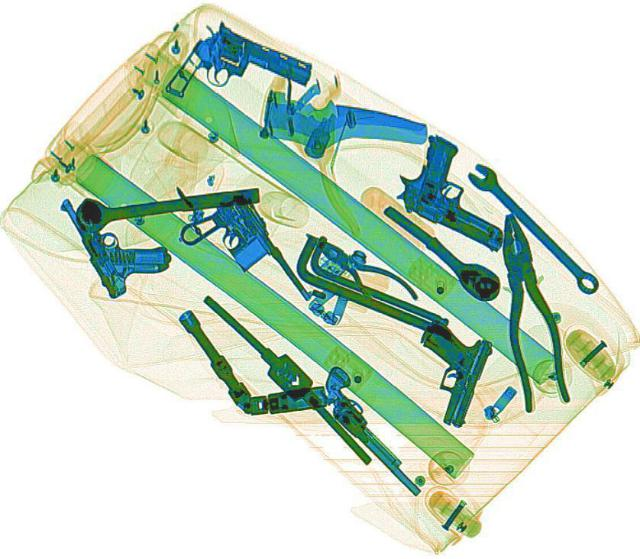Gun: (297, 361, 447, 497), (167, 190, 313, 325), (380, 130, 542, 250), (160, 20, 318, 136), (54, 174, 180, 299), (389, 317, 496, 427)
Pliers: (486, 211, 572, 410), (299, 225, 421, 318)
Wrench: (459, 159, 606, 296)
